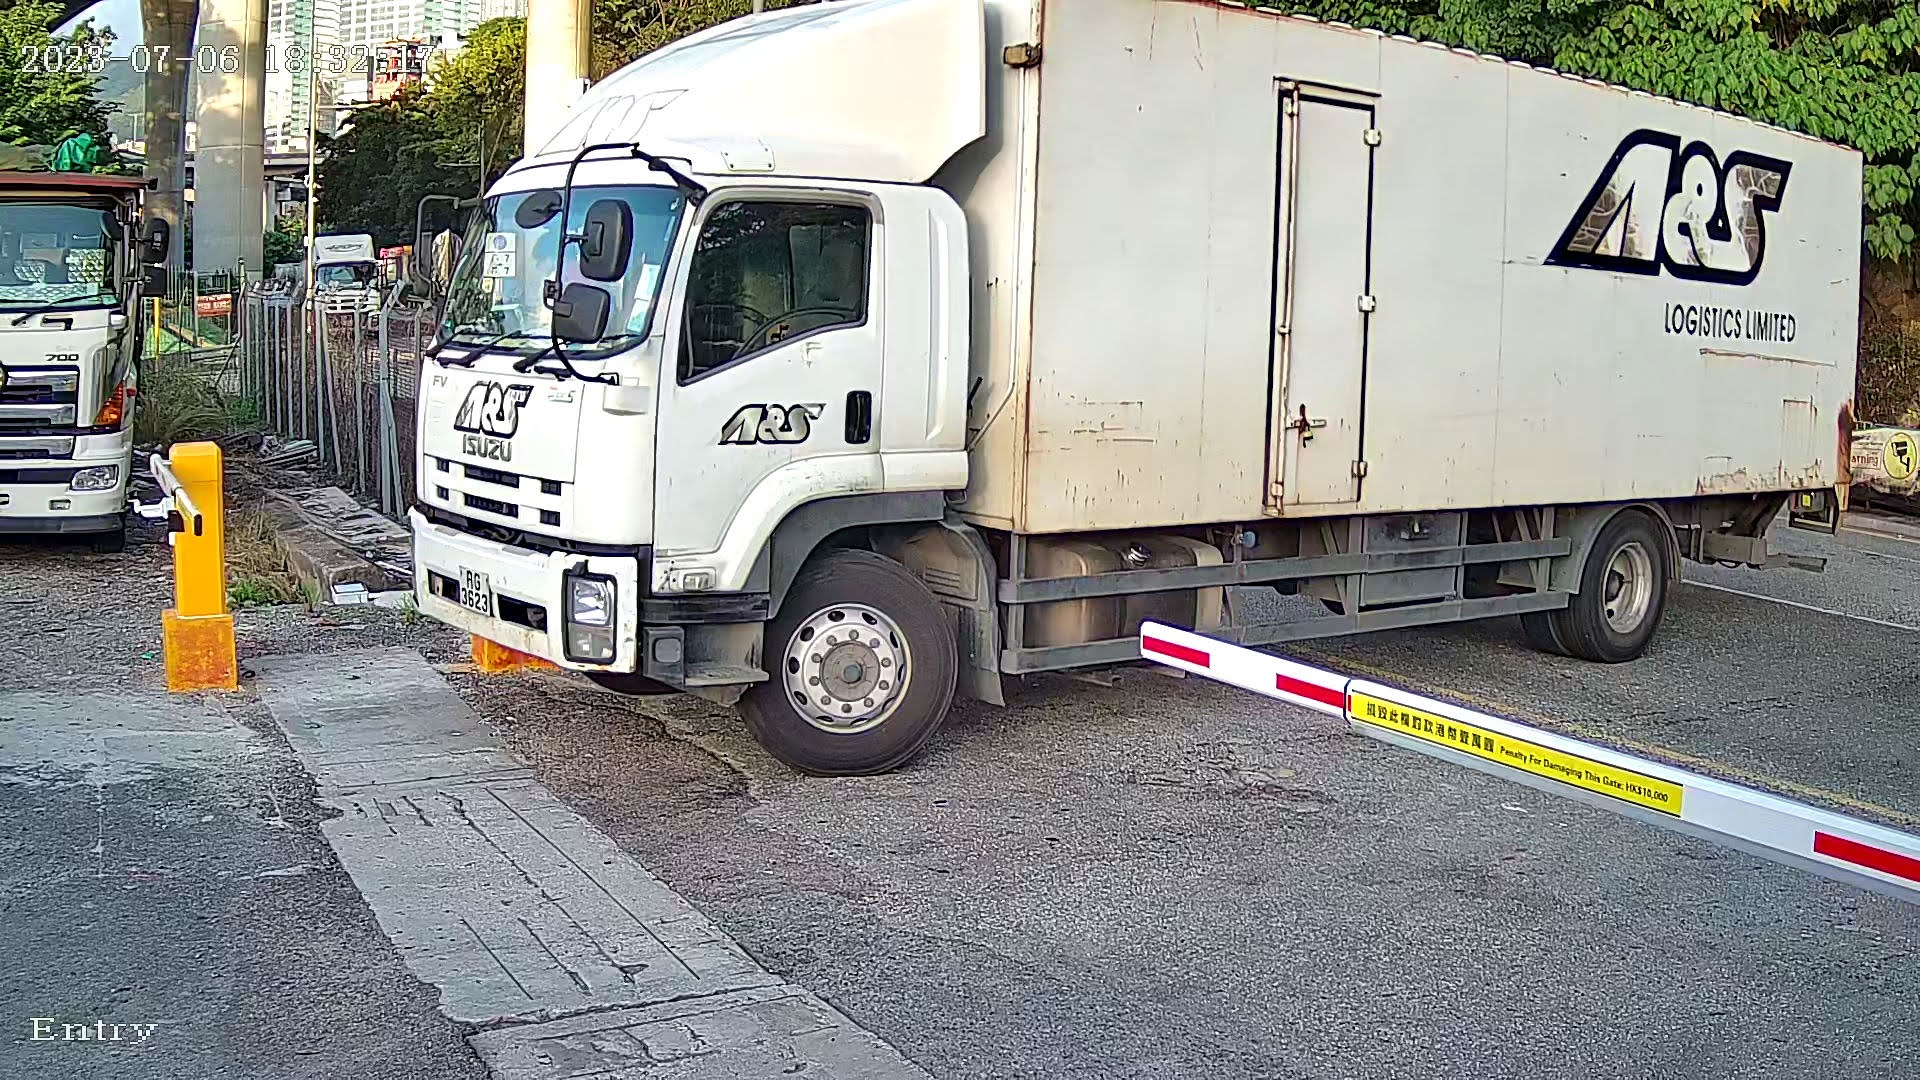truck_large: (355, 3, 1920, 781)
